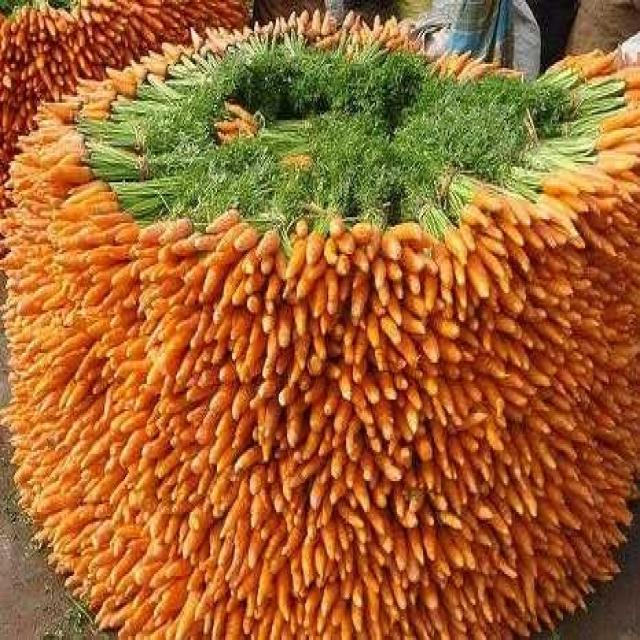carrots: (535, 172, 584, 214), (456, 196, 510, 231), (91, 216, 136, 254), (160, 232, 196, 264), (376, 224, 404, 263), (233, 225, 260, 253)
